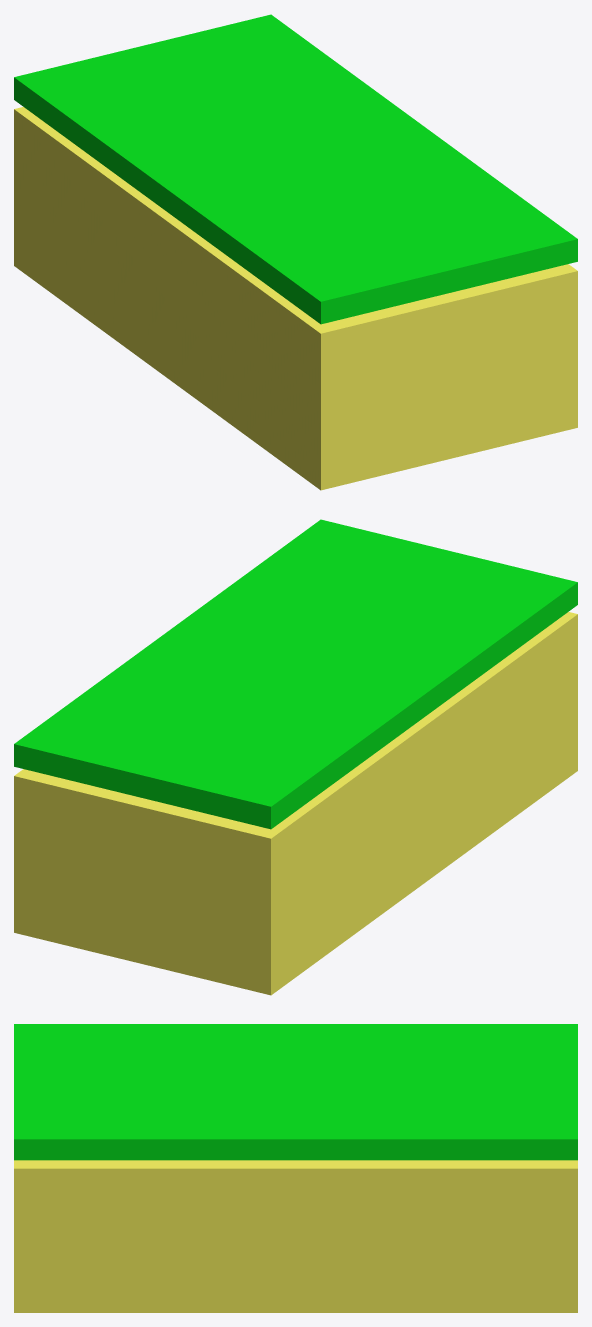
The model's file is suelo.fbx.
The picture shows the model from 3 angles, top to bottom: view 1: azimuth 30°, elevation 25°; view 2: azimuth 150°, elevation 25°; view 3: azimuth 270°, elevation 25°; orthographic projection. The views are drawn at different scales.
Visible parts, largest first — view 1: Cube.001, Cube; view 2: Cube.001, Cube; view 3: Cube.001, Cube.
Boxes of the visible parts, x1,y1,x2,y2 form: Cube.001: (14,107,577,490); Cube: (14,14,577,324); Cube.001: (14,612,577,995); Cube: (14,519,577,829); Cube.001: (14,1160,577,1312); Cube: (14,1024,577,1160).
Size of the model in its own units: 1110 by 779 by 2295.
